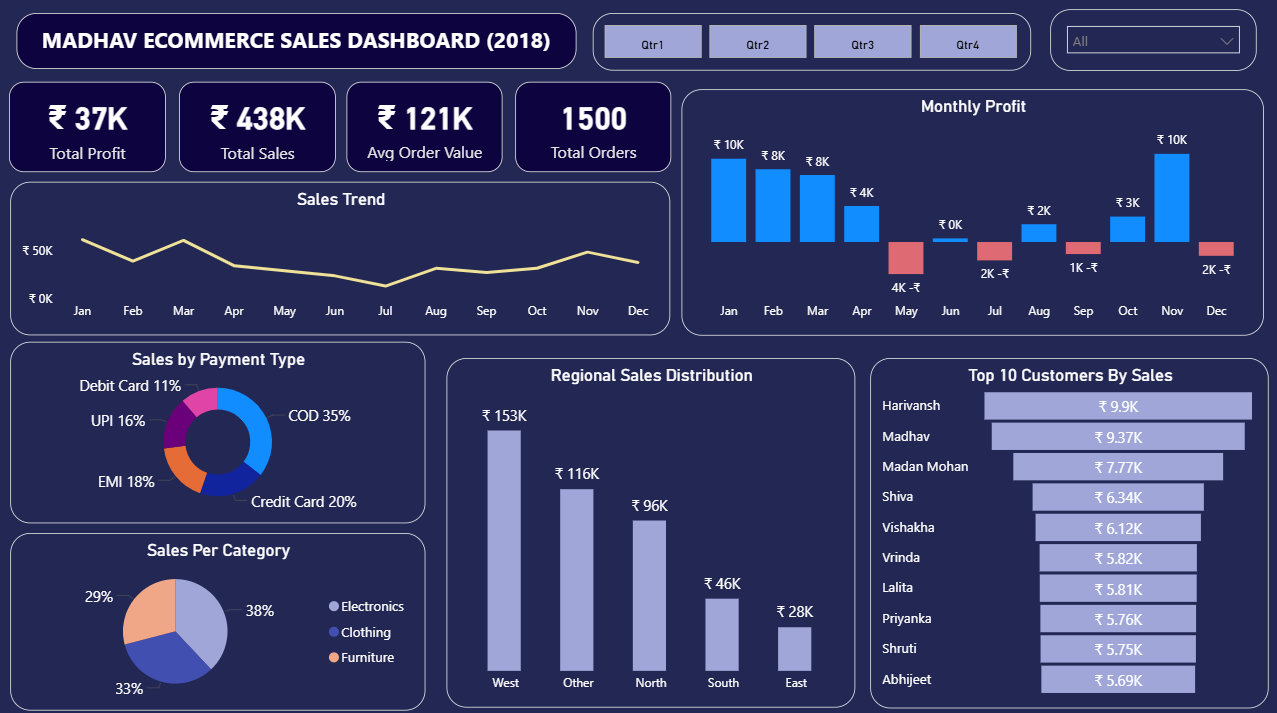

The dashboard page shown, as its layout file describes it:
{"tool":"powerbi","page":{"name":"Page 1","canvas":[1280,720],"ordinal":0},"visuals":[{"type":"textbox","box":[17.5,15,560,56.2],"z":0},{"type":"columnChart","title":"Monthly Profit","fields":{"Category":["Orders.Month Name"],"Y":["Details.Profit"]},"box":[682.5,91.2,582.5,246.2],"z":1000},{"type":"card","fields":{"Values":["Details.Profit"]},"box":[9.7,83.7,156.8,90.5],"z":2000},{"type":"lineChart","title":"Sales Trend","fields":{"Y":["Details.Amount"],"Category":["Orders.Month Name"]},"box":[11.2,183.8,660,153.8],"z":3000},{"type":"card","fields":{"Values":["Details.Amount"]},"box":[179.8,83.7,156.8,90.5],"z":4000},{"type":"card","fields":{"Values":["Details.AOV"]},"box":[347.5,84,156.2,90],"z":5000},{"type":"advancedSlicerVisual","fields":{"Values":["Orders.Quarter"]},"box":[593.8,15,438.8,57.5],"z":6000},{"type":"slicer","title":"States","fields":{"Values":["Orders.State"]},"box":[1051.2,11.2,206.2,61.2],"z":7000},{"type":"card","fields":{"Values":["Details.Order ID"]},"box":[516.2,84,156.2,90],"z":9000},{"type":"donutChart","title":"Sales by Payment Type","fields":{"Category":["Details.PaymentMode"],"Y":["Details.Amount"]},"box":[11.2,343.8,415,181.2],"z":10000},{"type":"pieChart","title":"Sales Per Category","fields":{"Category":["Details.Category"],"Y":["Details.Amount"]},"box":[11.2,535,415,177.5],"z":11000},{"type":"funnel","title":"Top 10 Customers By Sales","fields":{"Category":["Orders.CustomerName"],"Y":["Details.Amount"]},"box":[871.2,360,398.8,350],"z":12000},{"type":"columnChart","title":"Regional Sales Distribution","fields":{"Category":["Orders.Zones"],"Y":["Details.Amount"]},"box":[447.6,359.5,409,349.9],"z":13000}]}

Visuals, with their boxes in screenshot pixels (x1, y1, x2, y2), scaled from the page's 1280x720 canvas onto the 1277x713 screenshot:
textbox: bbox=(17, 15, 576, 71)
"Monthly Profit" columnChart: bbox=(681, 90, 1262, 334)
card - Details.Profit: bbox=(10, 83, 166, 173)
"Sales Trend" lineChart: bbox=(11, 182, 670, 334)
card - Details.Amount: bbox=(179, 83, 336, 173)
card - Details.AOV: bbox=(347, 83, 503, 172)
advancedSlicerVisual - Orders.Quarter: bbox=(592, 15, 1030, 72)
"States" slicer: bbox=(1049, 11, 1254, 72)
card - Details.Order ID: bbox=(515, 83, 671, 172)
"Sales by Payment Type" donutChart: bbox=(11, 340, 425, 520)
"Sales Per Category" pieChart: bbox=(11, 530, 425, 706)
"Top 10 Customers By Sales" funnel: bbox=(869, 356, 1267, 703)
"Regional Sales Distribution" columnChart: bbox=(447, 356, 855, 703)
